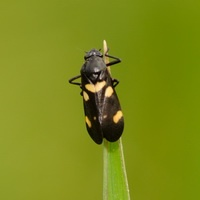insect: (69, 49, 123, 143)
